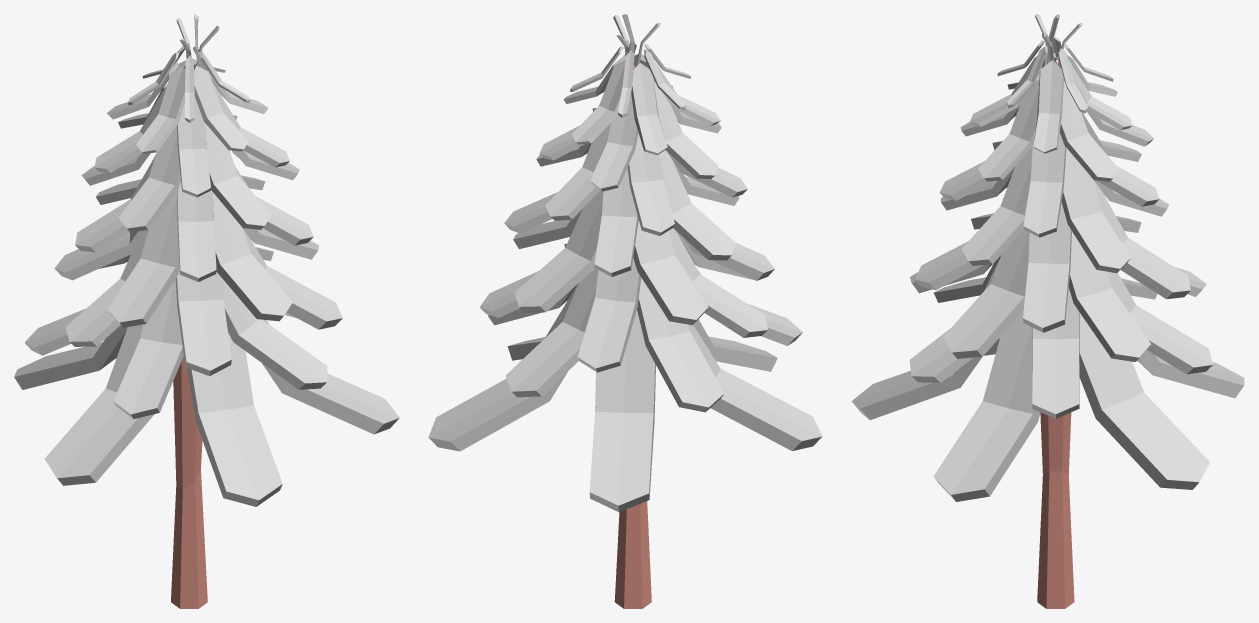
The model's file is Drzewo_iglaste.fbx.
3 views of the same model, side by side, from view 1: azimuth 30°, elevation 25°; view 2: azimuth 150°, elevation 25°; view 3: azimuth 270°, elevation 25° (orthographic).
Visible parts, largest first — view 1: Drzewo_iglaste_LOD0; view 2: Drzewo_iglaste_LOD0; view 3: Drzewo_iglaste_LOD0.
Part boxes in pixels (box(x1,y1,x2,y2)): Drzewo_iglaste_LOD0: box(14, 14, 399, 608); Drzewo_iglaste_LOD0: box(428, 14, 822, 608); Drzewo_iglaste_LOD0: box(851, 14, 1244, 608).
Size of what is drawn, in the model's own units: 493 by 860 by 518.
